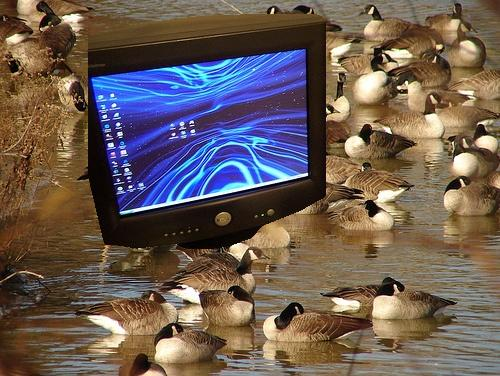tampered: (89, 15, 326, 249)
